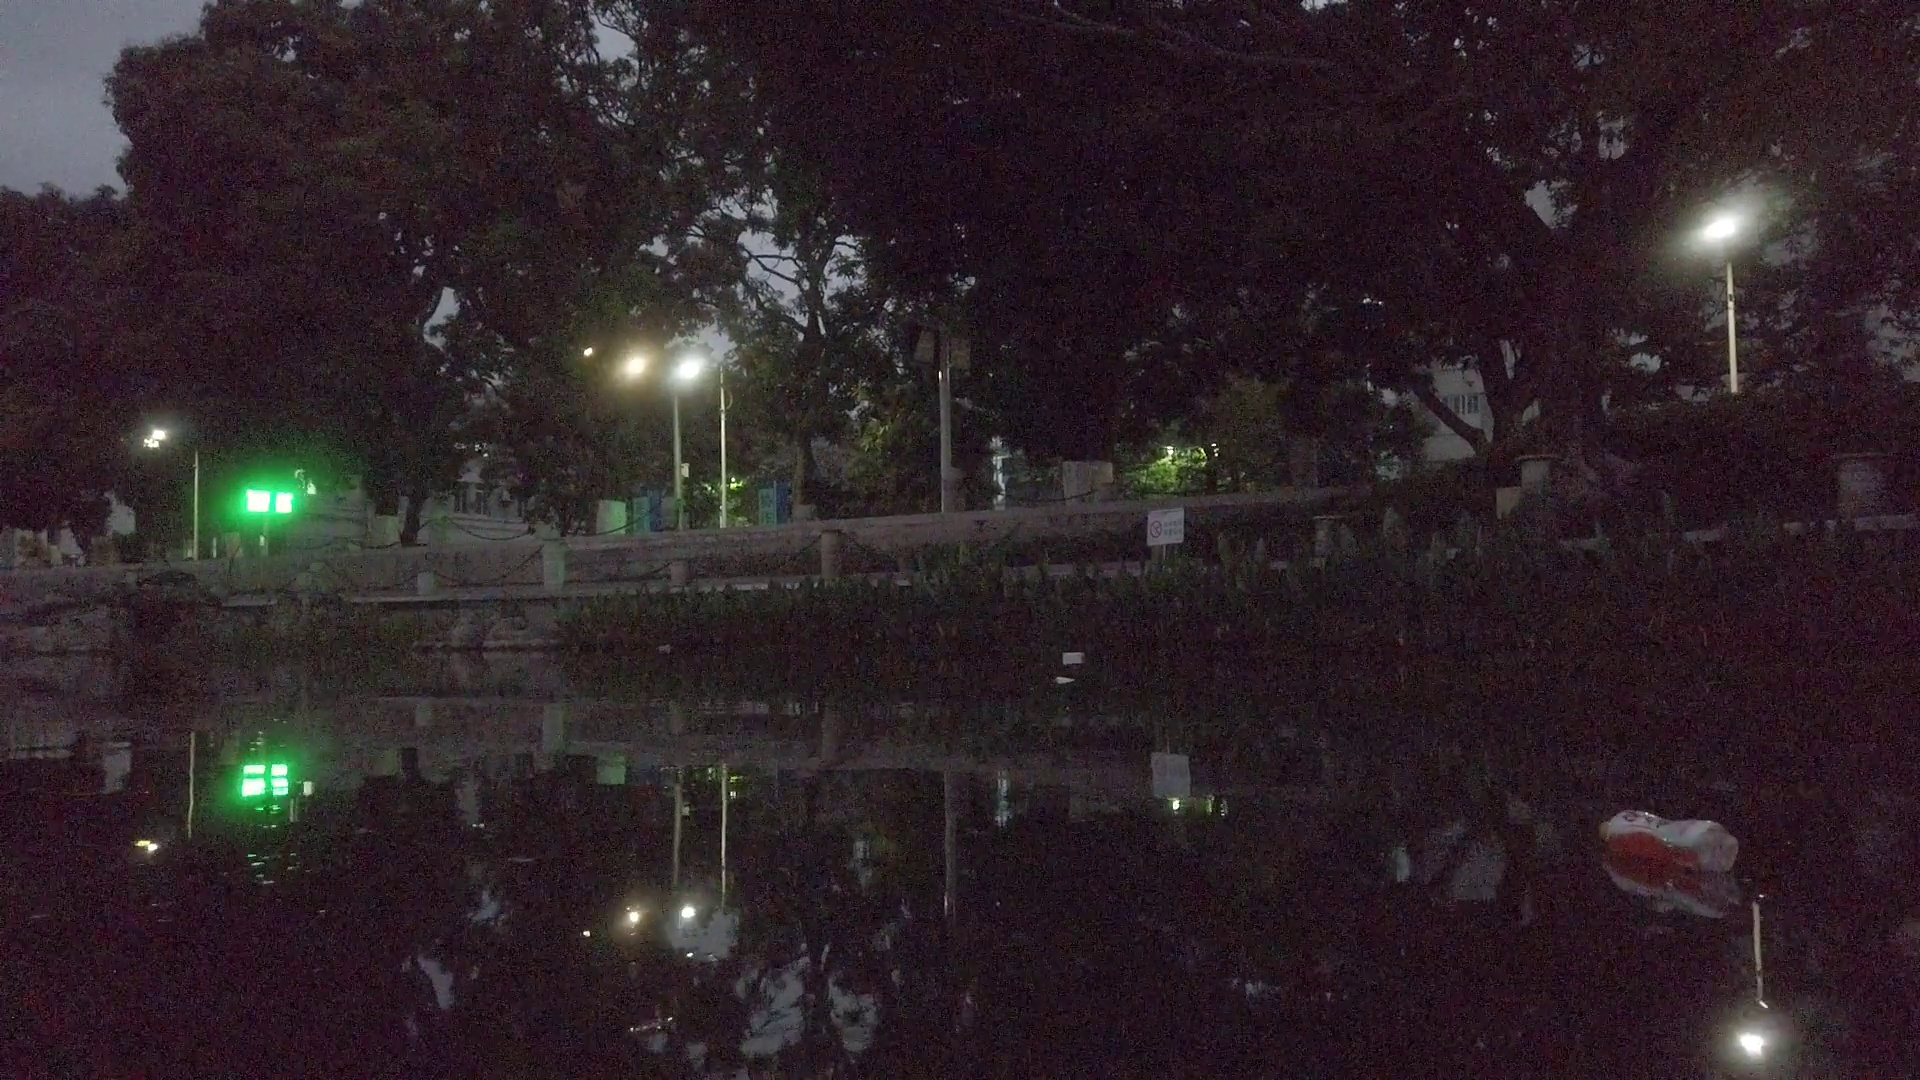bottle: (1596, 803, 1738, 873)
carton: (1063, 653, 1085, 665)
paper: (1054, 673, 1073, 687)
